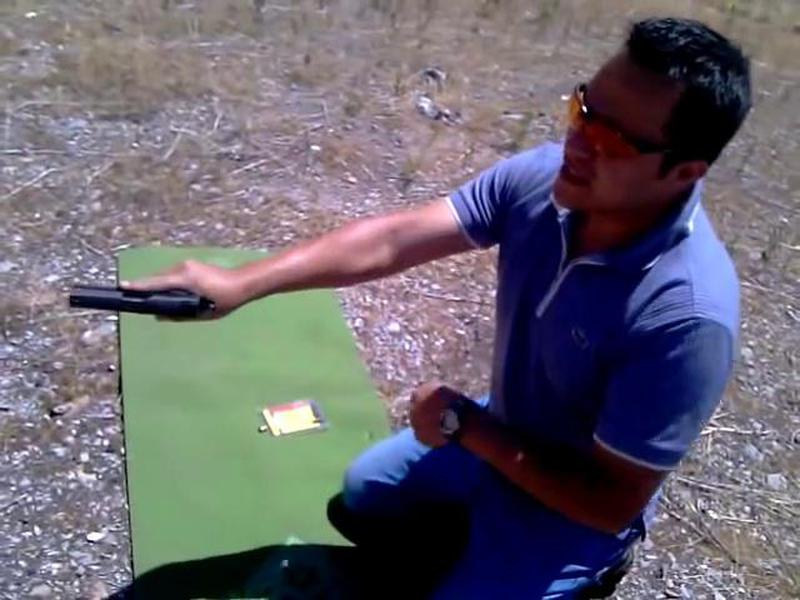Pistola: (61, 258, 217, 332)
